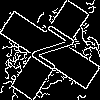Z: (25, 25, 75, 79)
